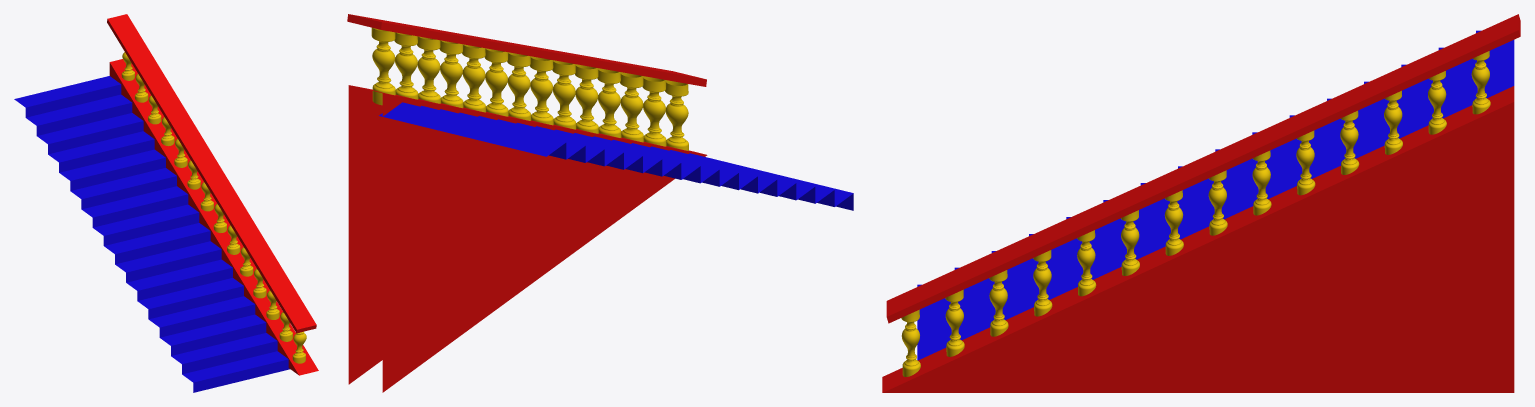
File: Escalier Coter droite .fbx
3 renders of one model, left to right at view 1: azimuth 30°, elevation 25°; view 2: azimuth 150°, elevation 25°; view 3: azimuth 270°, elevation 25°, orthographic. The views are drawn at different scales.
Parts seen in each view (by area): view 1: NSM_Escalier.007; view 2: NSM_Escalier.007; view 3: NSM_Escalier.007.
Part boxes in pixels (x1,y1,x2,y2): NSM_Escalier.007: (14,14,318,392); NSM_Escalier.007: (347,14,853,392); NSM_Escalier.007: (882,14,1520,392).
Bounding box in the file's own units: 223 × 404 × 640.
